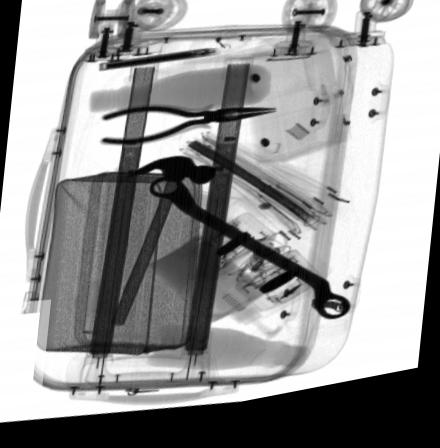Hammer: (110, 161, 217, 330)
Pliers: (98, 109, 281, 150)
Powerbank: (102, 53, 219, 73)
Wrench: (147, 180, 352, 332)
